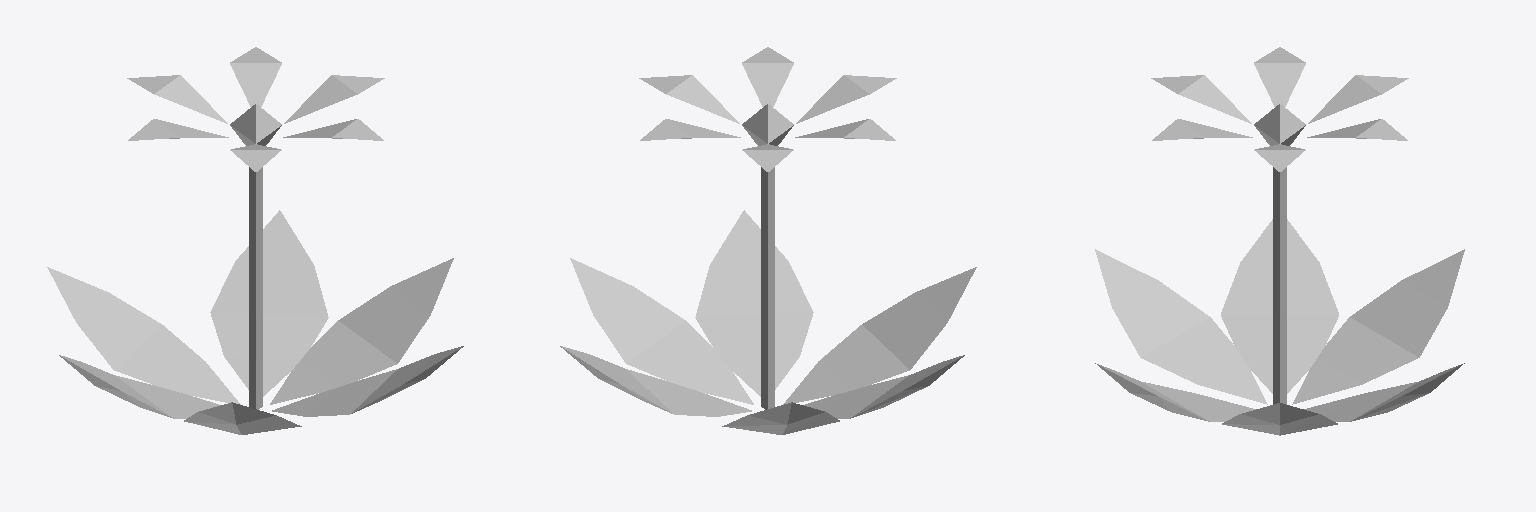
File: hepatica_0004.obj
3 views of the same model, side by side, from view 1: azimuth 30°, elevation 25°; view 2: azimuth 150°, elevation 25°; view 3: azimuth 270°, elevation 25° (orthographic).
Visible parts, largest first — view 1: hepatica_0004; view 2: hepatica_0004; view 3: hepatica_0004.
Part boxes in pixels (x1,y1,x2,y2): hepatica_0004: (47, 47, 463, 434); hepatica_0004: (560, 47, 976, 434); hepatica_0004: (1095, 47, 1464, 435).
Size of the model in its own units: 2.99 by 2.2 by 2.42.